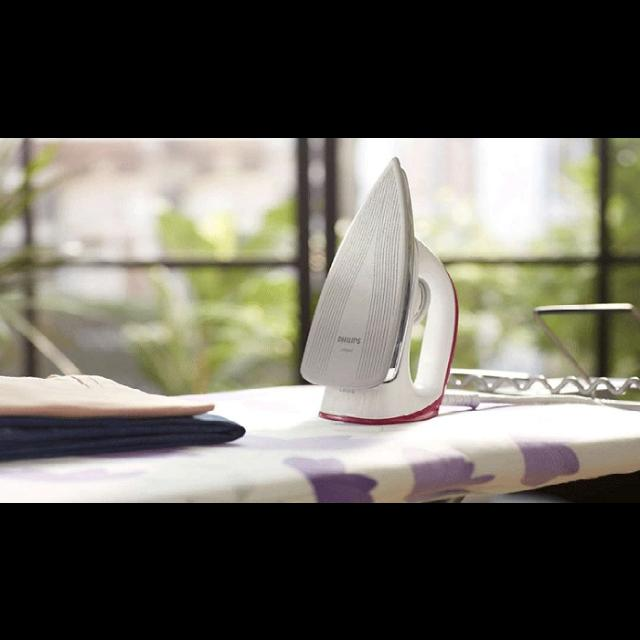Clothes-Iron: (295, 166, 467, 434)
